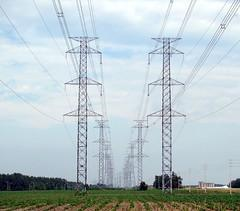power_tower: (59, 33, 105, 187), (147, 33, 186, 196), (91, 117, 111, 184), (131, 117, 149, 188)
